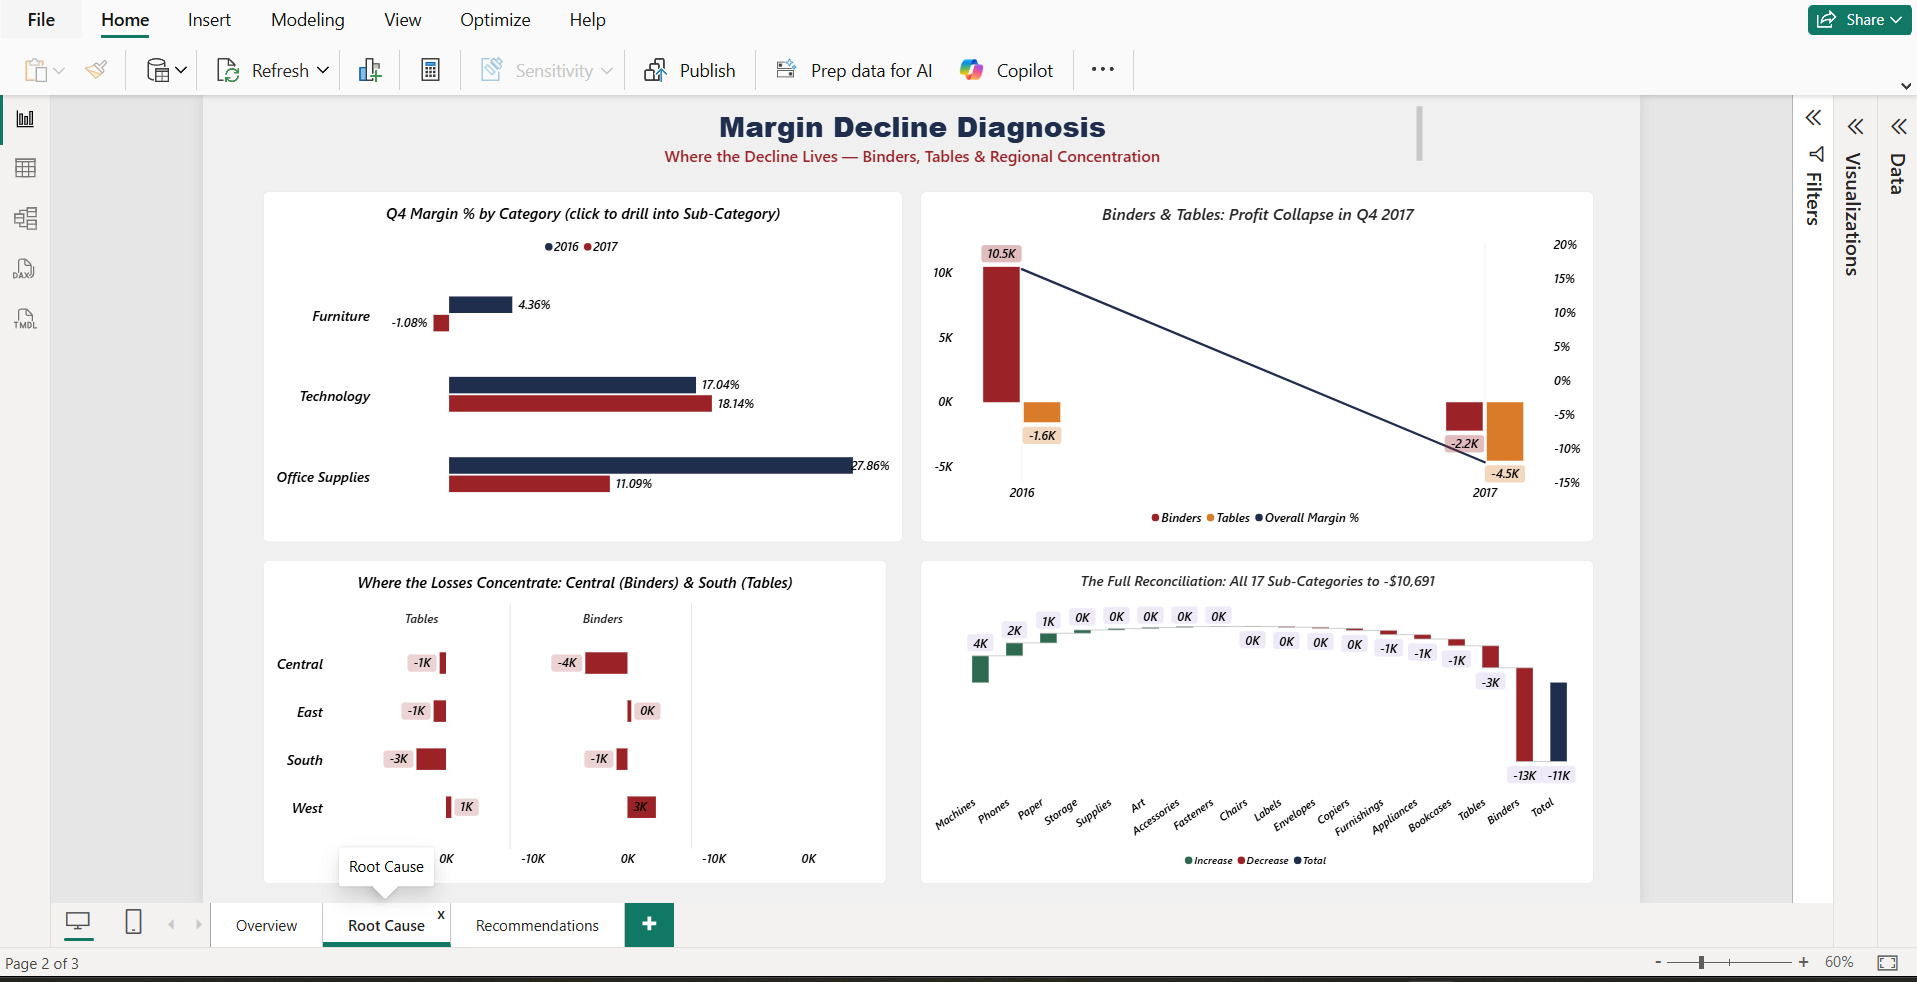

What the dashboard file says about the page in this screenshot:
{"tool":"powerbi","page":{"name":"Root Cause","canvas":[1920,1080],"ordinal":1},"visuals":[{"type":"clusteredBarChart","title":"Q4 Margin % by Category (click to drill into Sub-Category)","fields":{"Category":["superstore_cleaned.Category","superstore_cleaned.Sub-Category"],"Y":["superstore_cleaned.Overall Margin %"],"Series":["superstore_cleaned.Year"]},"box":[79.6,128.5,854.2,468.7],"z":0},{"type":"textbox","box":[273.3,14.5,1355.4,85.1],"z":1000},{"type":"lineClusteredColumnComboChart","title":"Binders & Tables: Profit Collapse in Q4 2017","fields":{"Category":["superstore_cleaned.Year"],"Series":["superstore_cleaned.Sub-Category"],"Y":["superstore_cleaned.Total Profit"],"Y2":["superstore_cleaned.Overall Margin %"]},"box":[959.1,128.5,899.4,468.7],"z":2000},{"type":"clusteredBarChart","title":"Where the Losses Concentrate: Central (Binders) & South (Tables)","fields":{"Y":["superstore_cleaned.Total Profit"],"Category":["superstore_cleaned.Region"],"Rows":["superstore_cleaned.Sub-Category"]},"box":[79.6,620.7,832.4,432.5],"z":3000},{"type":"waterfallChart","title":"The Full Reconciliation: All 17 Sub-Categories to -$10,691","fields":{"Category":["superstore_cleaned.Sub-Category"],"Y":["superstore_cleaned.Q4 YoY Profit Change"]},"box":[959.1,620.7,899.4,432.5],"z":4000}]}

Visuals, with their boxes on the page's 1920x1080 design canvas (x1, y1, x2, y2). These are canvas units, not pixel positions in the 1917x982 screenshot, which may show the page scaled, cropped or inside an application window:
"Q4 Margin % by Category (click to drill into Sub-Category)" clusteredBarChart: pyautogui.locateOnScreen(80, 128, 934, 597)
textbox: pyautogui.locateOnScreen(273, 14, 1629, 100)
"Binders & Tables: Profit Collapse in Q4 2017" lineClusteredColumnComboChart: pyautogui.locateOnScreen(959, 128, 1858, 597)
"Where the Losses Concentrate: Central (Binders) & South (Tables)" clusteredBarChart: pyautogui.locateOnScreen(80, 621, 912, 1053)
"The Full Reconciliation: All 17 Sub-Categories to -$10,691" waterfallChart: pyautogui.locateOnScreen(959, 621, 1858, 1053)
